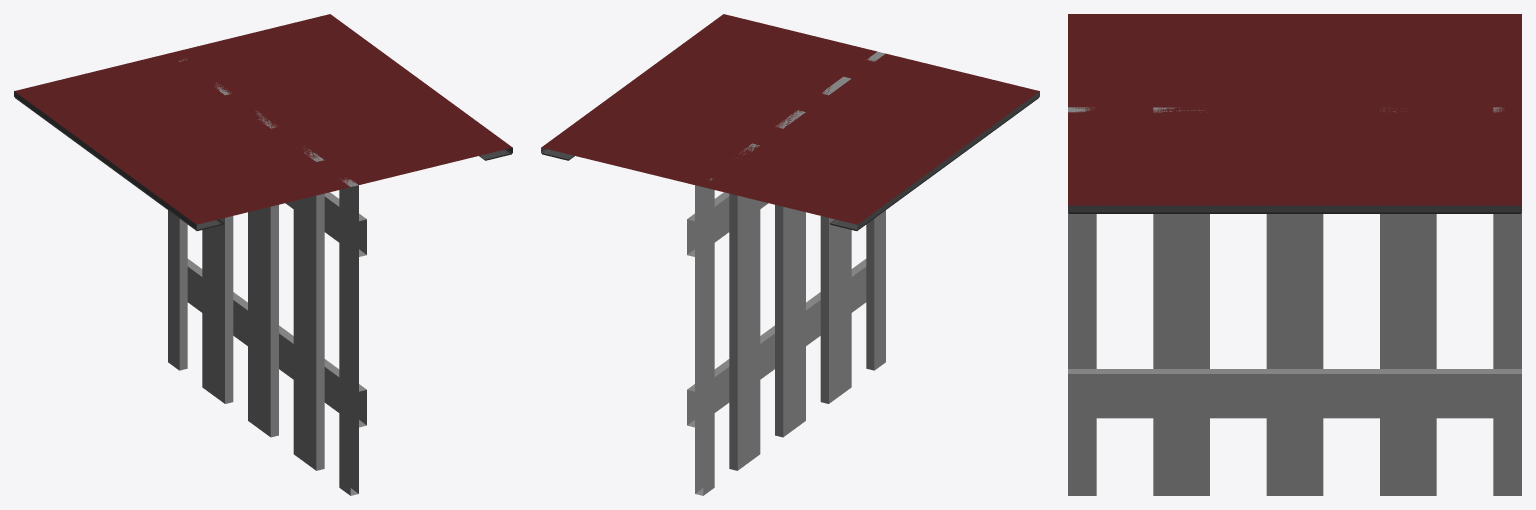
Rendered from Fence.fbx.
The picture shows the model from 3 angles, left to right: view 1: azimuth 30°, elevation 25°; view 2: azimuth 150°, elevation 25°; view 3: azimuth 270°, elevation 25°; orthographic projection. The views are drawn at different scales.
Visible parts, largest first — view 1: Fence.002; view 2: Fence.002; view 3: Fence.002.
Boxes of the visible parts, x1,y1,x2,y2 form: Fence.002: (14, 14, 512, 495); Fence.002: (541, 14, 1039, 495); Fence.002: (1068, 14, 1521, 495).
Bounding box in the file's own units: 100 × 93.3 × 100.
